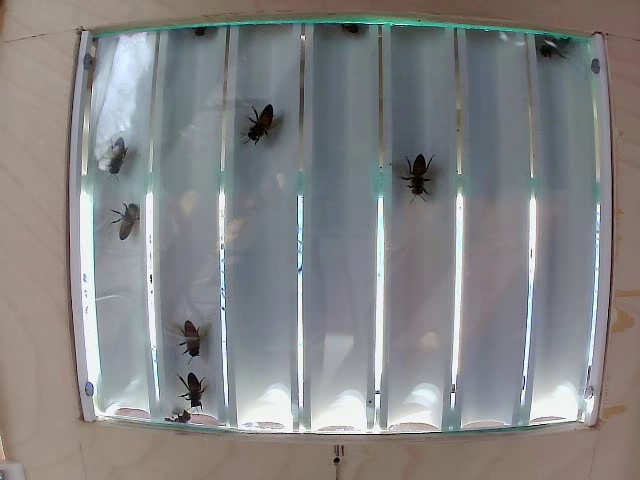bee: (240, 103, 281, 172), (402, 154, 438, 207), (107, 200, 147, 247), (92, 134, 136, 174), (166, 368, 211, 405), (162, 308, 200, 350)
